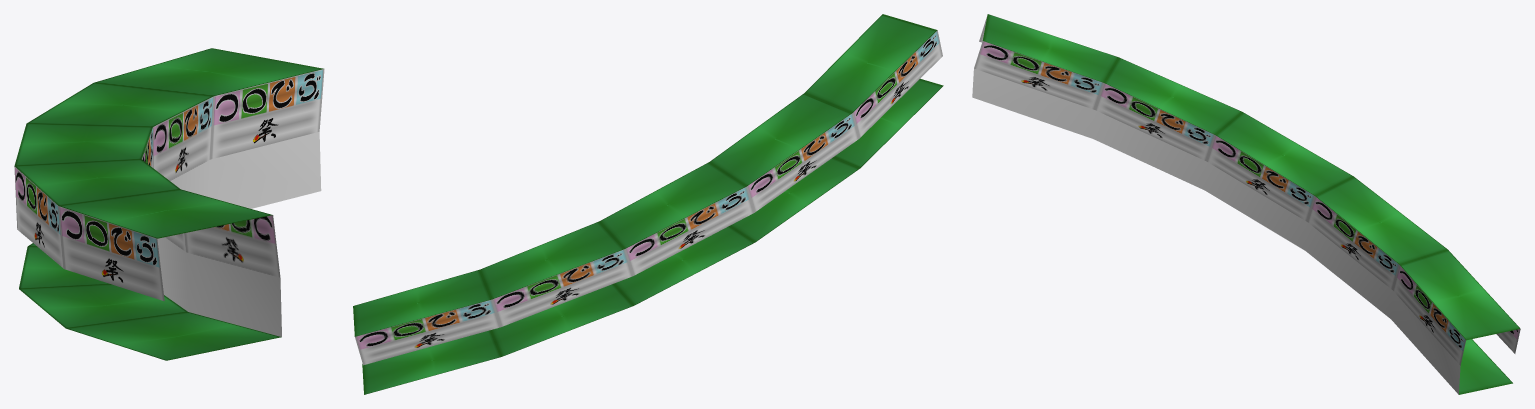
Rendered from Walls_3.fbx.
The picture shows the model from 3 angles, left to right: view 1: azimuth 30°, elevation 25°; view 2: azimuth 150°, elevation 25°; view 3: azimuth 270°, elevation 25°; orthographic projection. The views are drawn at different scales.
Parts seen in each view (by area): view 1: polySurface58; view 2: polySurface58; view 3: polySurface58.
Part boxes in pixels (bbox=[...]): polySurface58: bbox=[14, 48, 324, 360]; polySurface58: bbox=[353, 14, 943, 394]; polySurface58: bbox=[972, 14, 1520, 394].
Bounding box in the file's own units: 11.63 × 7.86 × 17.08.
